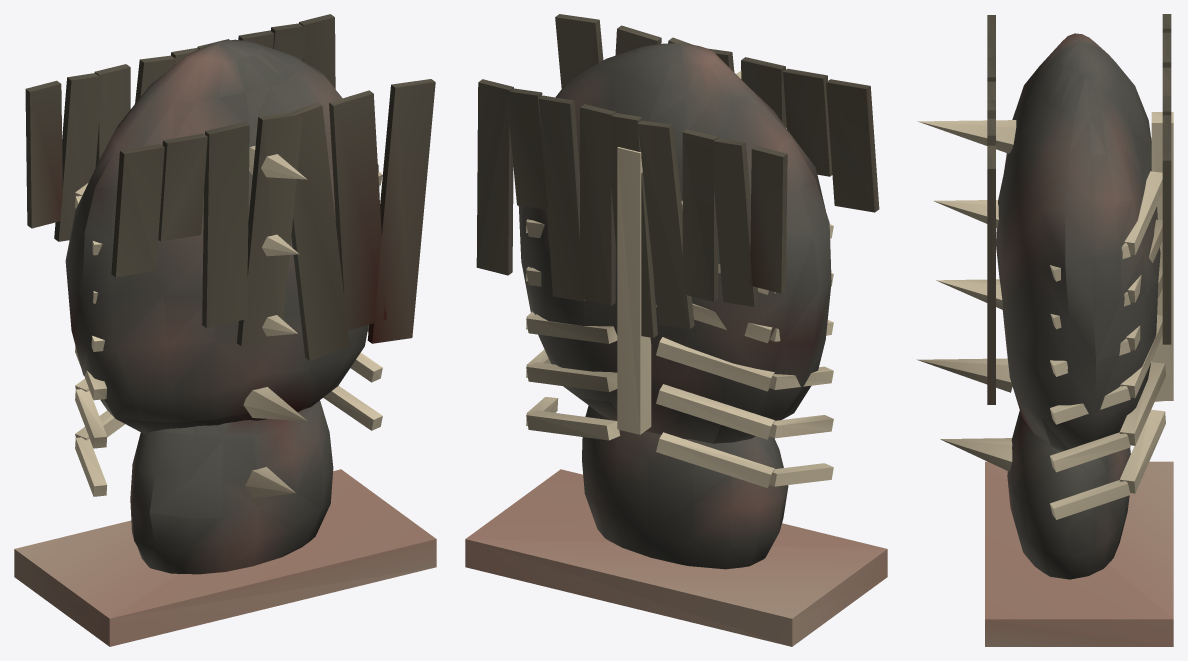
Rendered from BrotherMonsterTorso.glb.
3 views of the same model, side by side, from view 1: azimuth 30°, elevation 25°; view 2: azimuth 150°, elevation 25°; view 3: azimuth 270°, elevation 25° (orthographic).
Parts seen in each view (by area): view 1: BrotherMonsterTorso_monster_skin, BrotherMonsterTorso_shirtBrother, BrotherMonsterTorso_leather, BrotherMonsterTorso_bone; view 2: BrotherMonsterTorso_shirtBrother, BrotherMonsterTorso_monster_skin, BrotherMonsterTorso_leather, BrotherMonsterTorso_bone; view 3: BrotherMonsterTorso_monster_skin, BrotherMonsterTorso_leather, BrotherMonsterTorso_bone, BrotherMonsterTorso_shirtBrother.
Boxes of the visible parts, x1,y1,x2,y2 form: BrotherMonsterTorso_monster_skin: (65,39,379,574); BrotherMonsterTorso_shirtBrother: (25,14,435,360); BrotherMonsterTorso_leather: (14,469,436,646); BrotherMonsterTorso_bone: (75,145,382,498); BrotherMonsterTorso_shirtBrother: (476,14,879,337); BrotherMonsterTorso_monster_skin: (518,43,831,569); BrotherMonsterTorso_leather: (465,469,887,646); BrotherMonsterTorso_bone: (526,71,833,487); BrotherMonsterTorso_monster_skin: (996,33,1160,579); BrotherMonsterTorso_leather: (985,461,1173,646); BrotherMonsterTorso_bone: (917,112,1173,519); BrotherMonsterTorso_shirtBrother: (987,14,1171,404).
Size of the model in its own units: 1.7 by 2.71 by 1.17.
